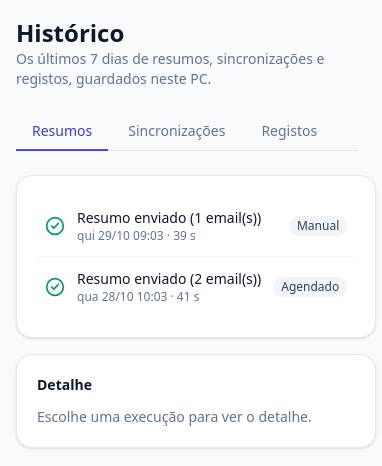
Test: HistoryPage › mostra os registos dos últimos 7 dias e deixa mudar de ficheiro
The width and height of the screenshot is (382, 466).
Expected: the heading "Histórico" is shown, [16, 16, 124, 49]
Step 1. Click the tab "Registos" → click(289, 132), box [245, 113, 333, 151]
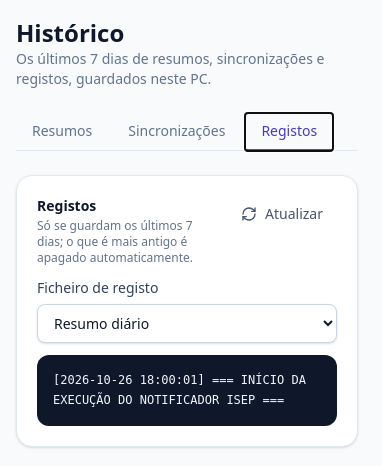
Expected: the text named "Registos" shows "INÍCIO DA EXECUÇÃO DO NOTIFICADOR", [53, 373, 313, 406]
Step 2. Select "Sincronização do Moodle" in the dropdown labelled "Ficheiro de registo" → (187, 324), box [37, 304, 337, 343]
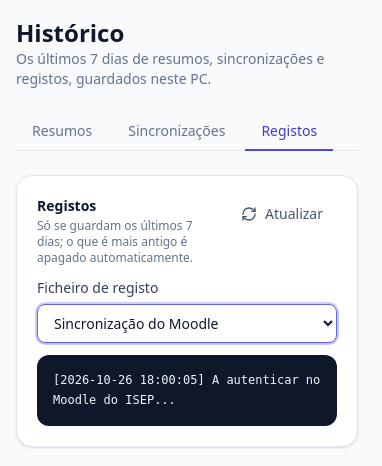
Expected: the text named "Registos" shows "A autenticar no Moodle do ISEP", [53, 373, 328, 406]
